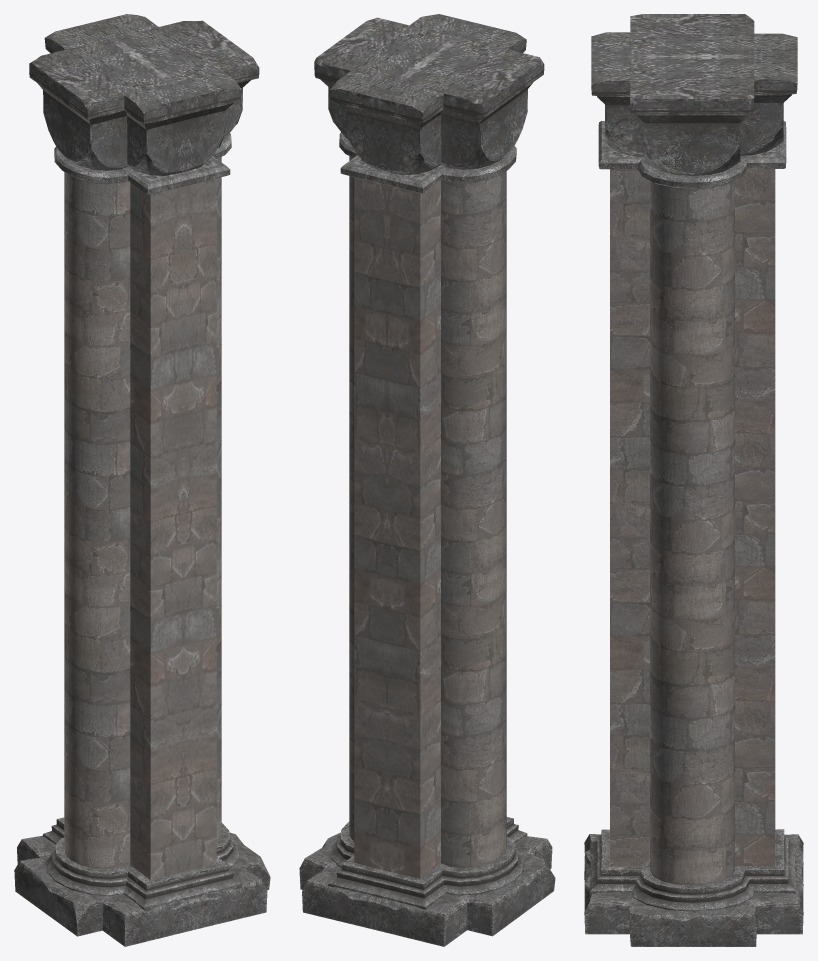
3 renders of one model, left to right at view 1: azimuth 30°, elevation 25°; view 2: azimuth 150°, elevation 25°; view 3: azimuth 270°, elevation 25°, orthographic.
Parts seen in each view (by area): view 1: SM_Dungeon_RoomCentralColumn_LOD0; view 2: SM_Dungeon_RoomCentralColumn_LOD0; view 3: SM_Dungeon_RoomCentralColumn_LOD0.
Boxes of the visible parts, <box> form: SM_Dungeon_RoomCentralColumn_LOD0: <box>14,14,270,946</box>; SM_Dungeon_RoomCentralColumn_LOD0: <box>299,14,555,946</box>; SM_Dungeon_RoomCentralColumn_LOD0: <box>584,14,803,946</box>.
Bounding box in the file's own units: 1.46 × 6 × 1.41.
Materials: 2 (2 with a texture image).
